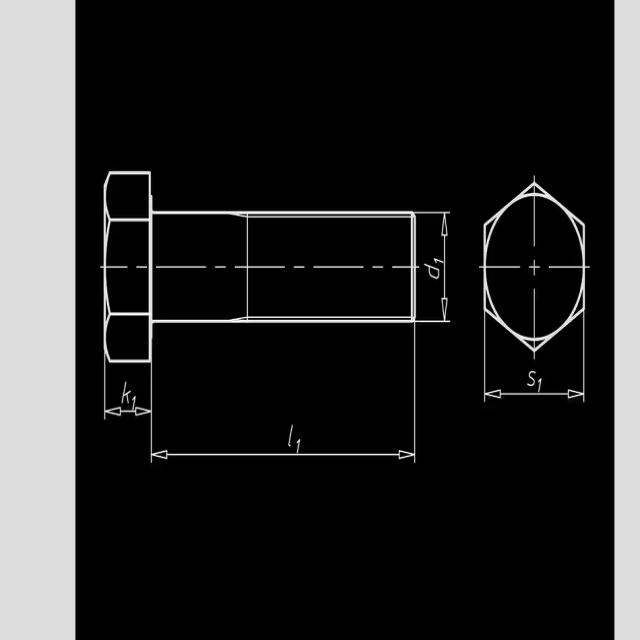marking_line: (149, 362, 417, 464), (481, 355, 587, 404), (416, 212, 450, 325), (102, 363, 153, 420)
numeric: (129, 395, 137, 411), (295, 438, 302, 453), (535, 377, 542, 392), (433, 256, 443, 266)
